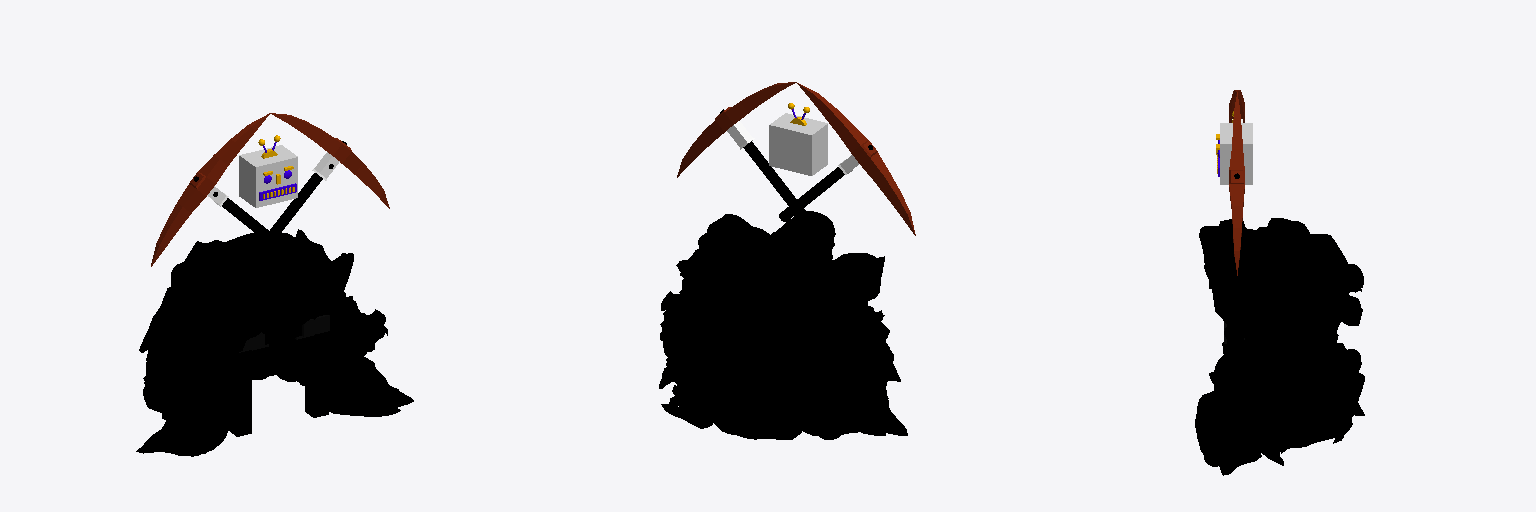
Rendered from RobotsMATERIAL1.obj.
The picture shows the model from 3 angles: view 1: azimuth 30°, elevation 25°; view 2: azimuth 150°, elevation 25°; view 3: azimuth 270°, elevation 25°; orthographic projection.
Visible parts, largest first — view 1: shard1, pCube9, shard18 polySurface7, Robot:pCube25, solidShatter1 shard6, pCylinder6 polySurface17, solidShatter1 shard8, shard18 polySurface6, polySurface4 shard18, pCylinder6 polySurface22, solidShatter1 shard32, solidShatter1 shard31 (+9 smaller); view 2: solidShatter1 shard31, solidShatter1 shard22, solidShatter1 shard21, solidShatter1 shard30, Robot:pCube25, solidShatter1 shard24, solidShatter1 shard26, pCylinder6 polySurface17, shard1, solidShatter1 shard6, solidShatter1 shard25, pCylinder6 polySurface22 (+14 smaller); view 3: shard18 polySurface8, shard18 polySurface7, solidShatter1 shard21, shard18 polySurface9, solidShatter1 shard6, polySurface4 shard18, solidShatter1 shard22, pCylinder6 polySurface22, shard18 polySurface10, solidShatter1 shard24, solidShatter1 shard8, Robot:pCube25 (+7 smaller).
Part boxes in pixels (left/top/right/bottom): shard1: left=136, top=280, right=259, bottom=456; pCube9: left=229, top=311, right=329, bottom=436; shard18 polySurface7: left=325, top=351, right=413, bottom=416; Robot:pCube25: left=239, top=135, right=297, bottom=207; solidShatter1 shard6: left=248, top=258, right=311, bottom=333; pCylinder6 polySurface17: left=151, top=113, right=269, bottom=266; solidShatter1 shard8: left=171, top=260, right=254, bottom=293; shard18 polySurface6: left=327, top=300, right=372, bottom=361; polySurface4 shard18: left=292, top=253, right=353, bottom=310; pCylinder6 polySurface22: left=270, top=113, right=389, bottom=208; solidShatter1 shard32: left=162, top=333, right=205, bottom=420; solidShatter1 shard31: left=144, top=316, right=198, bottom=399; solidShatter1 shard31: left=772, top=322, right=900, bottom=399; solidShatter1 shard22: left=749, top=251, right=814, bottom=345; solidShatter1 shard21: left=701, top=239, right=763, bottom=336; solidShatter1 shard30: left=711, top=382, right=797, bottom=434; Robot:pCube25: left=769, top=103, right=827, bottom=175; solidShatter1 shard24: left=666, top=325, right=739, bottom=382; solidShatter1 shard26: left=745, top=287, right=880, bottom=362; pCylinder6 polySurface17: left=796, top=82, right=915, bottom=235; shard1: left=833, top=253, right=907, bottom=435; solidShatter1 shard6: left=754, top=211, right=835, bottom=259; solidShatter1 shard25: left=758, top=386, right=868, bottom=436; pCylinder6 polySurface22: left=677, top=82, right=795, bottom=177; shard18 polySurface8: left=1254, top=337, right=1322, bottom=453; shard18 polySurface7: left=1195, top=391, right=1261, bottom=475; solidShatter1 shard21: left=1249, top=250, right=1363, bottom=300; shard18 polySurface9: left=1244, top=295, right=1328, bottom=390; solidShatter1 shard6: left=1202, top=227, right=1255, bottom=297; polySurface4 shard18: left=1211, top=278, right=1265, bottom=339; solidShatter1 shard22: left=1248, top=234, right=1361, bottom=301; pCylinder6 polySurface22: left=1229, top=93, right=1244, bottom=275; shard18 polySurface10: left=1294, top=281, right=1355, bottom=345; solidShatter1 shard24: left=1318, top=335, right=1361, bottom=392; solidShatter1 shard8: left=1248, top=218, right=1309, bottom=261; Robot:pCube25: left=1216, top=111, right=1252, bottom=184.
Bounding box in the file's own units: 17.49 × 20.56 × 9.94.